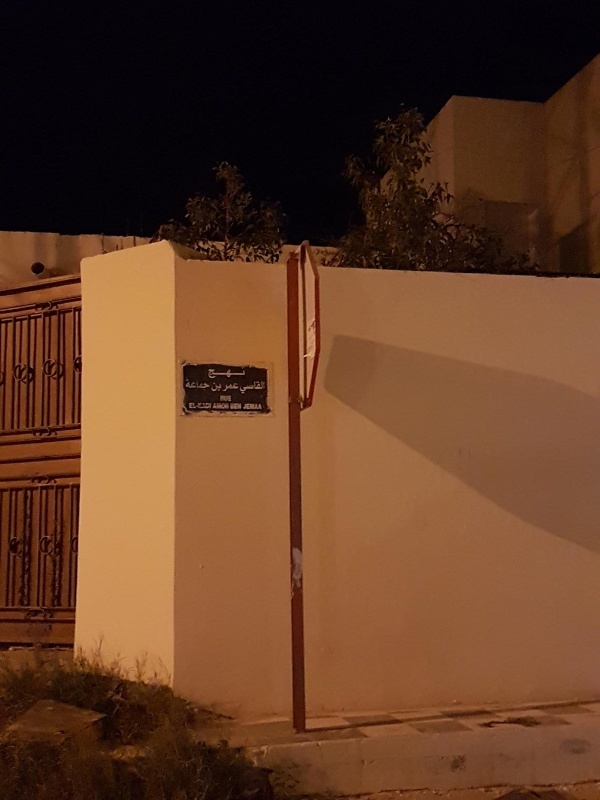text: (241, 381, 256, 394), (193, 379, 208, 391), (209, 367, 224, 378), (225, 367, 240, 378), (226, 383, 240, 392), (257, 381, 266, 394), (212, 383, 224, 392), (243, 403, 256, 411), (213, 402, 224, 410), (186, 379, 192, 391), (198, 402, 208, 409), (230, 403, 240, 410), (225, 395, 233, 402), (241, 367, 246, 378), (257, 403, 263, 411), (225, 402, 230, 410), (220, 395, 224, 402), (209, 379, 211, 391), (209, 402, 212, 409), (189, 403, 192, 409), (193, 403, 196, 409), (241, 403, 243, 410)
